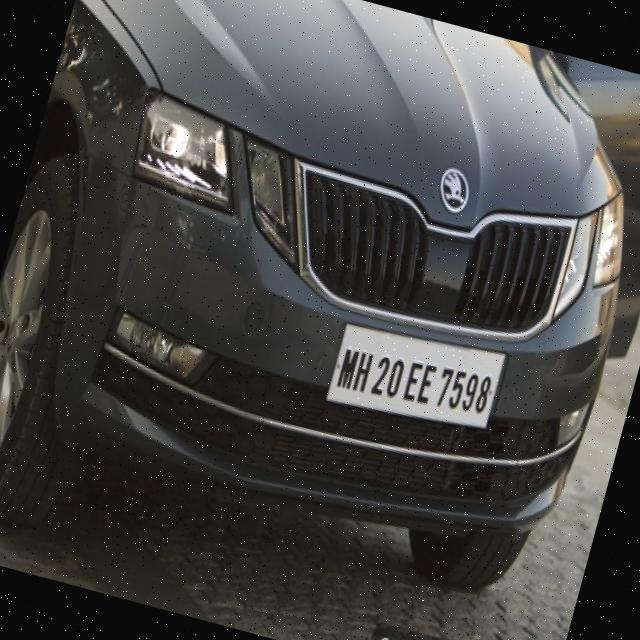Autre: (325, 328, 510, 432)
